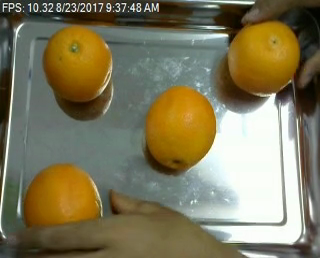Orange: (145, 86, 215, 169), (42, 24, 113, 103)
